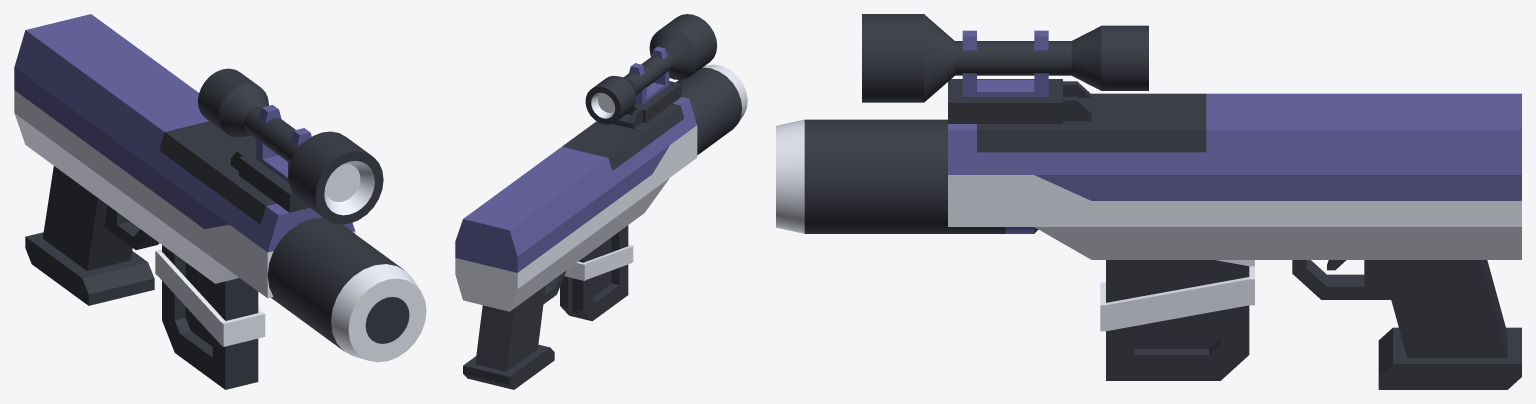
Rendered from GunTwo.fbx.
3 views of the same model, side by side, from view 1: azimuth 30°, elevation 25°; view 2: azimuth 150°, elevation 25°; view 3: azimuth 270°, elevation 25° (orthographic). The views are drawn at different scales.
Visible parts, largest first — view 1: mergedBlocks; view 2: mergedBlocks; view 3: mergedBlocks.
Boxes of the visible parts, left/top/right/bottom form: mergedBlocks: left=14, top=14, right=426, bottom=389; mergedBlocks: left=455, top=14, right=747, bottom=389; mergedBlocks: left=776, top=14, right=1521, bottom=389.
Bounding box in the file's own units: 4 × 13.61 × 26.
